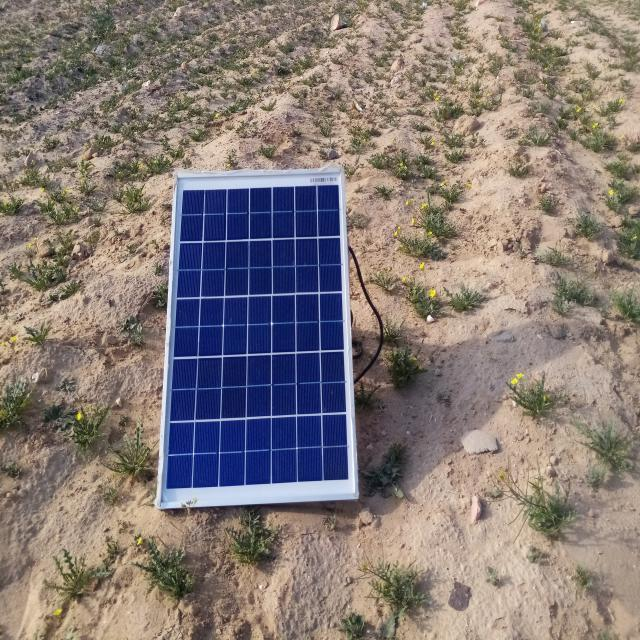no faulty: (160, 168, 358, 505)
